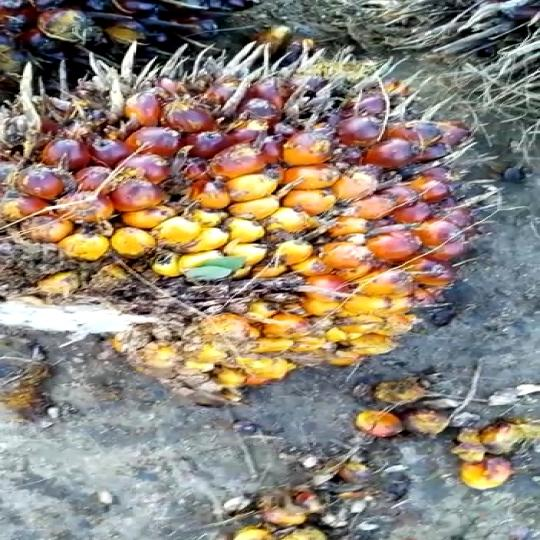masak: (0, 54, 477, 426)
